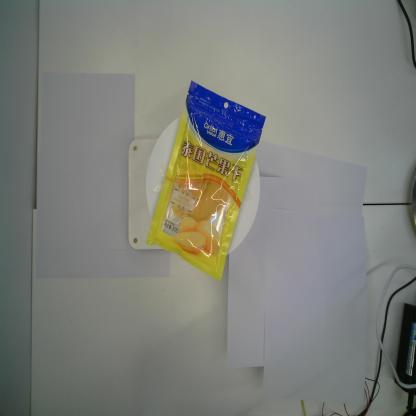Dried Fruit: (146, 79, 266, 283)
